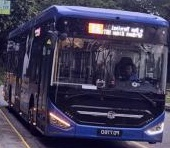bus: (88, 21, 103, 34)
